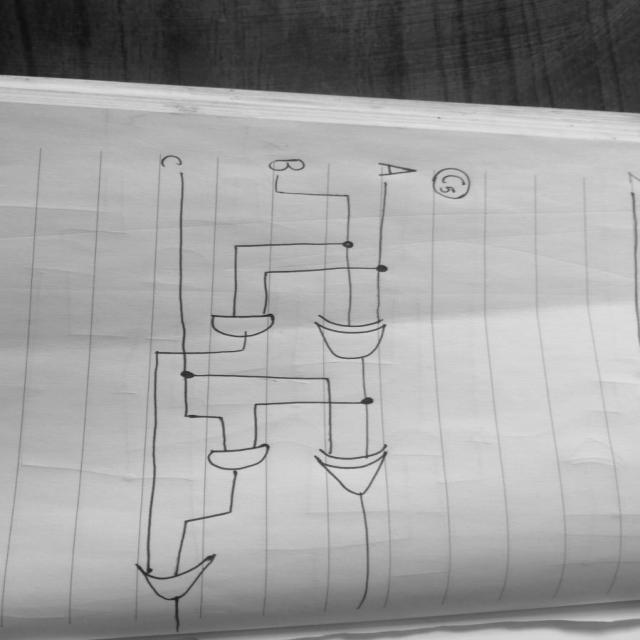AND: (188, 444, 298, 477), (202, 307, 286, 345)
OR: (114, 551, 242, 607)
XOR: (304, 300, 418, 369), (311, 443, 415, 508)
